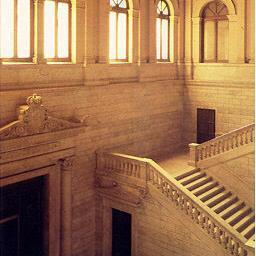Escaleras: (111, 145, 252, 255), (187, 121, 255, 166)
